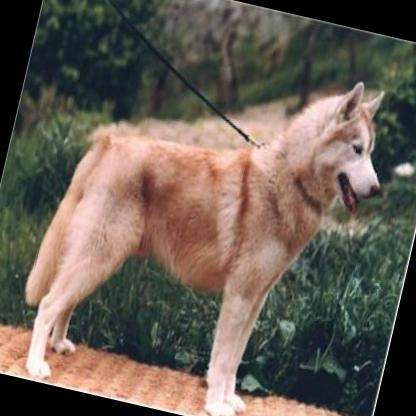Eskimo_dog: (4, 13, 403, 416)
